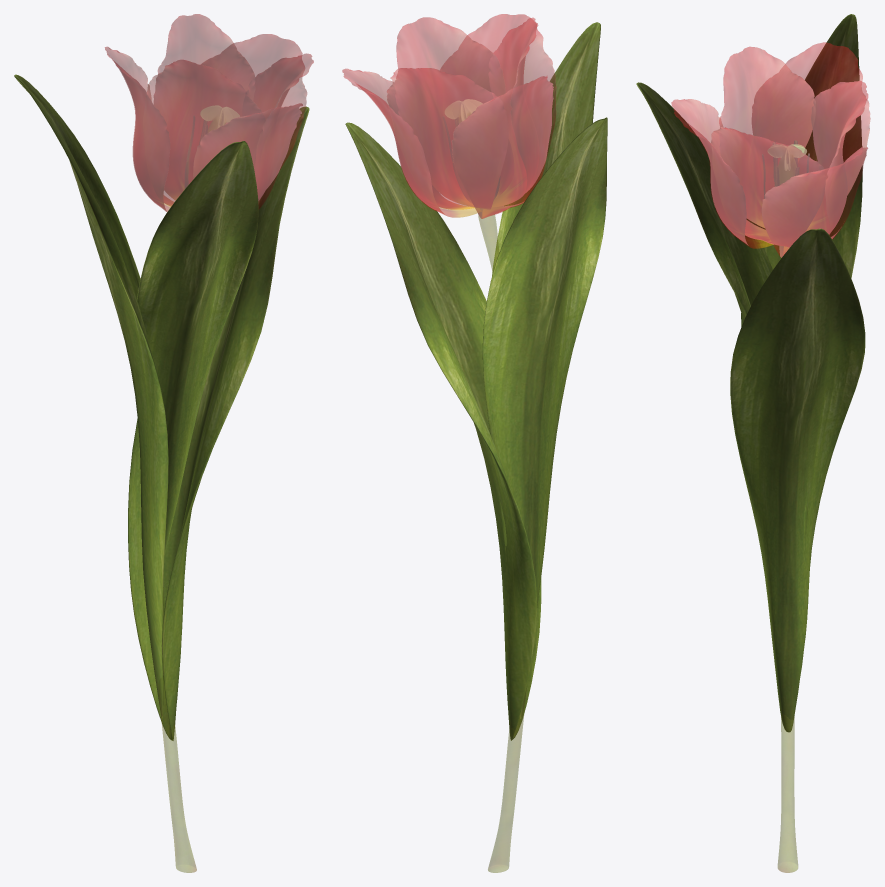
Rendered from tulip.glb.
3 renders of one model, left to right at view 1: azimuth 30°, elevation 25°; view 2: azimuth 150°, elevation 25°; view 3: azimuth 270°, elevation 25°, orthographic. The views are drawn at different scales.
Visible parts, largest first — view 1: 12978_tulip_flower_l3; view 2: 12978_tulip_flower_l3; view 3: 12978_tulip_flower_l3.
Boxes of the visible parts, bbox=[...] form: 12978_tulip_flower_l3: bbox=[14, 14, 313, 872]; 12978_tulip_flower_l3: bbox=[342, 14, 607, 872]; 12978_tulip_flower_l3: bbox=[636, 14, 870, 872].
Bounding box in the file's own units: 0.3063 × 0.8785 × 0.2294.
Materials: 3 (3 with a texture image).
